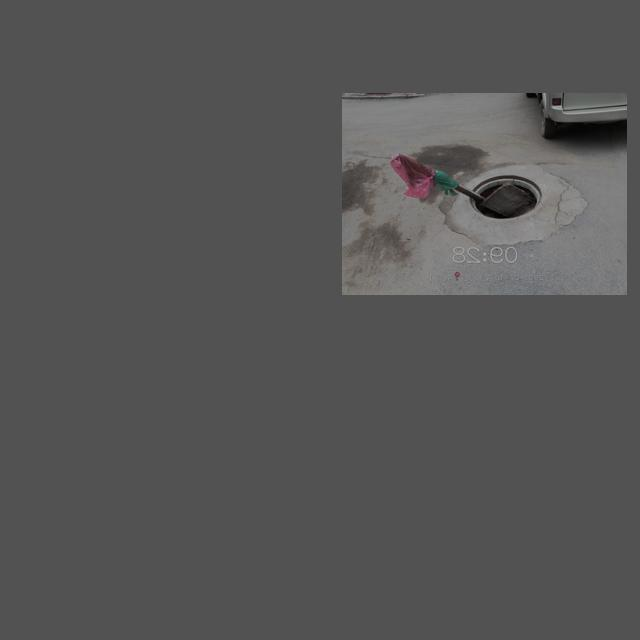lose: (463, 169, 555, 224)
